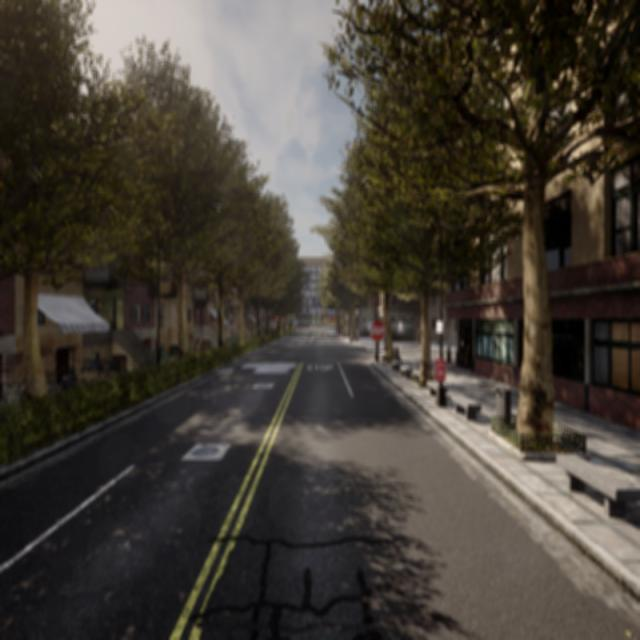stop sign: (368, 316, 386, 342)
